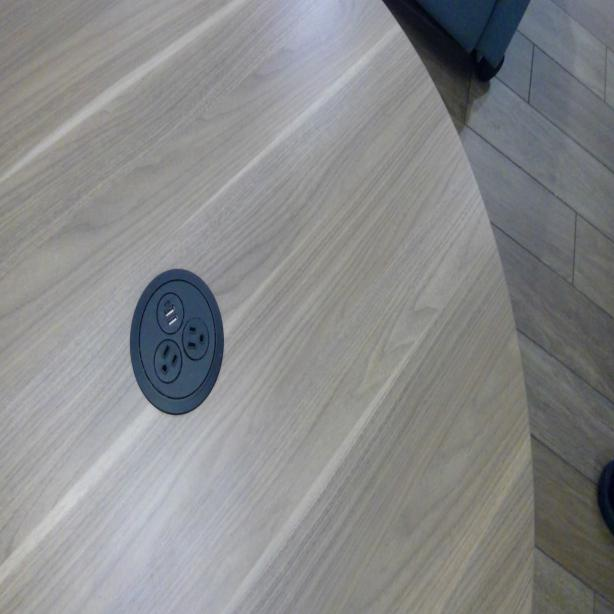typeb: (154, 341, 180, 378), (182, 319, 206, 357)
